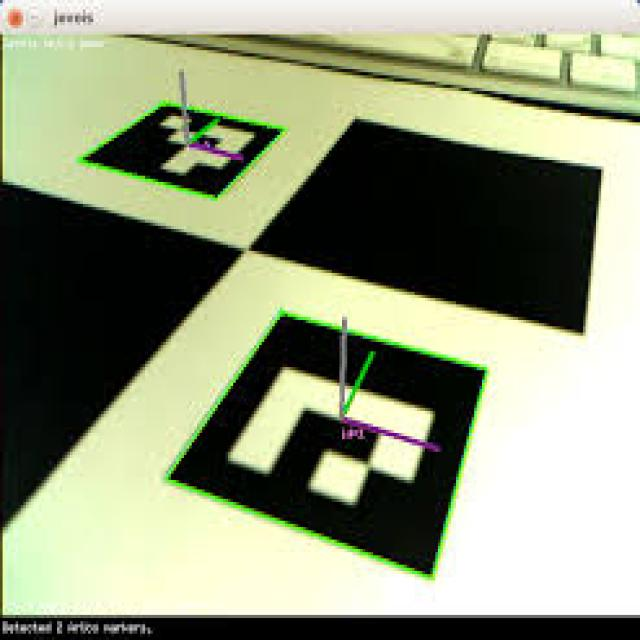aruco: (151, 296, 498, 574), (78, 55, 287, 215)
